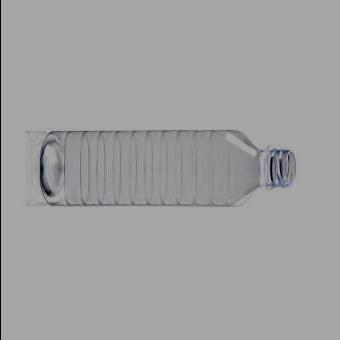bottle: (38, 129, 296, 208)
